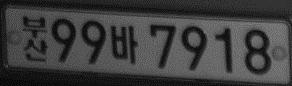1: (214, 28, 239, 73)
7: (149, 23, 176, 68)
8: (243, 28, 271, 74)
9: (180, 24, 207, 70), (50, 17, 76, 62), (81, 19, 106, 65)
바: (110, 25, 139, 65)
부산_V: (21, 15, 49, 61)
